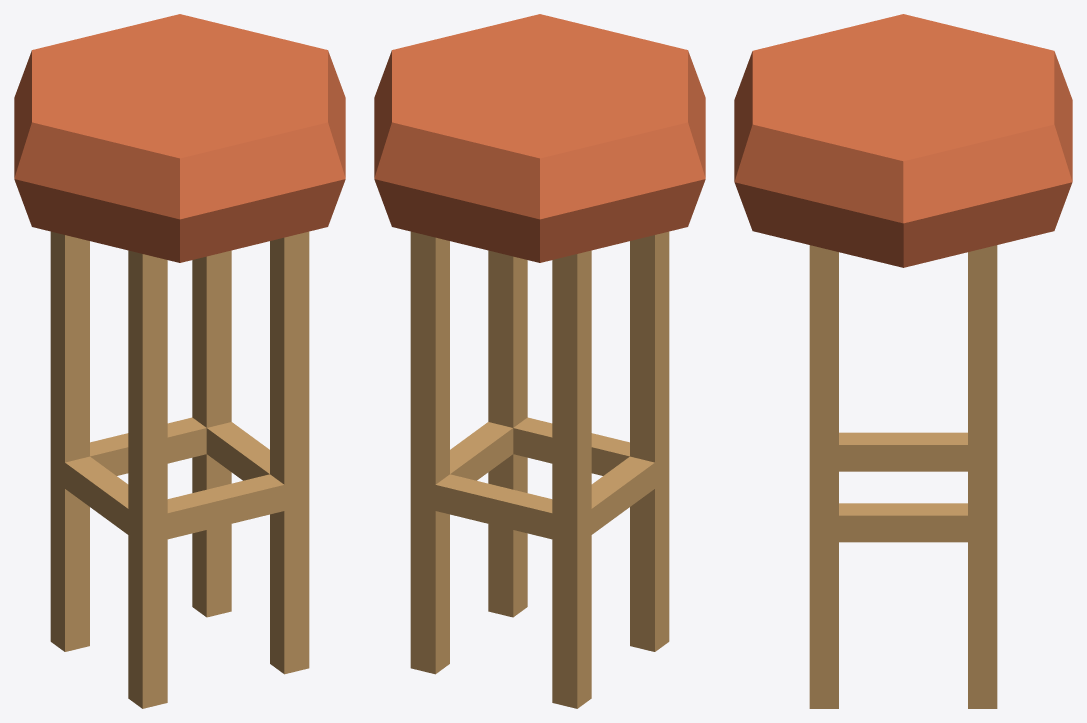
File: stoolBar.glb
3 renders of one model, left to right at view 1: azimuth 30°, elevation 25°; view 2: azimuth 150°, elevation 25°; view 3: azimuth 270°, elevation 25°, orthographic.
Bounding box in the file's own units: 2.65 × 4.35 × 2.3.
